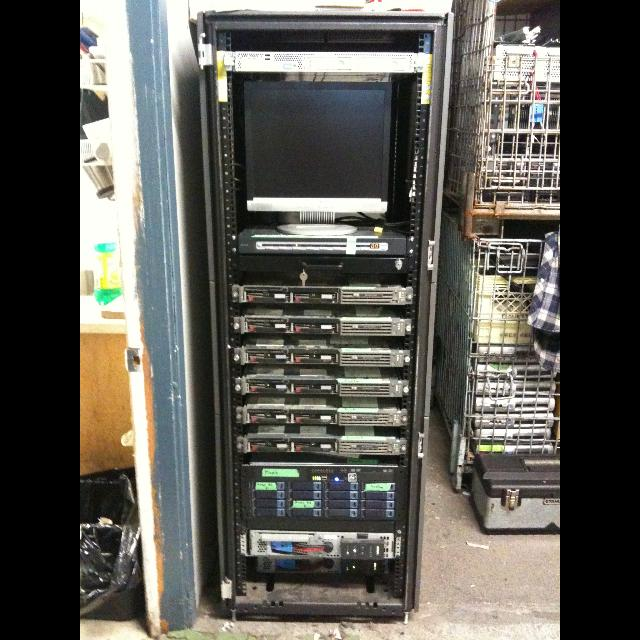Server: (204, 12, 448, 620)
